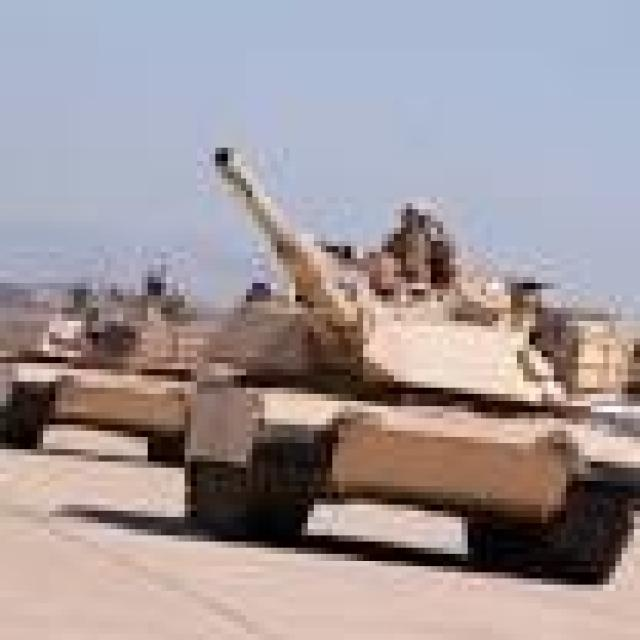Tanks: (181, 142, 637, 590), (7, 225, 215, 477)
